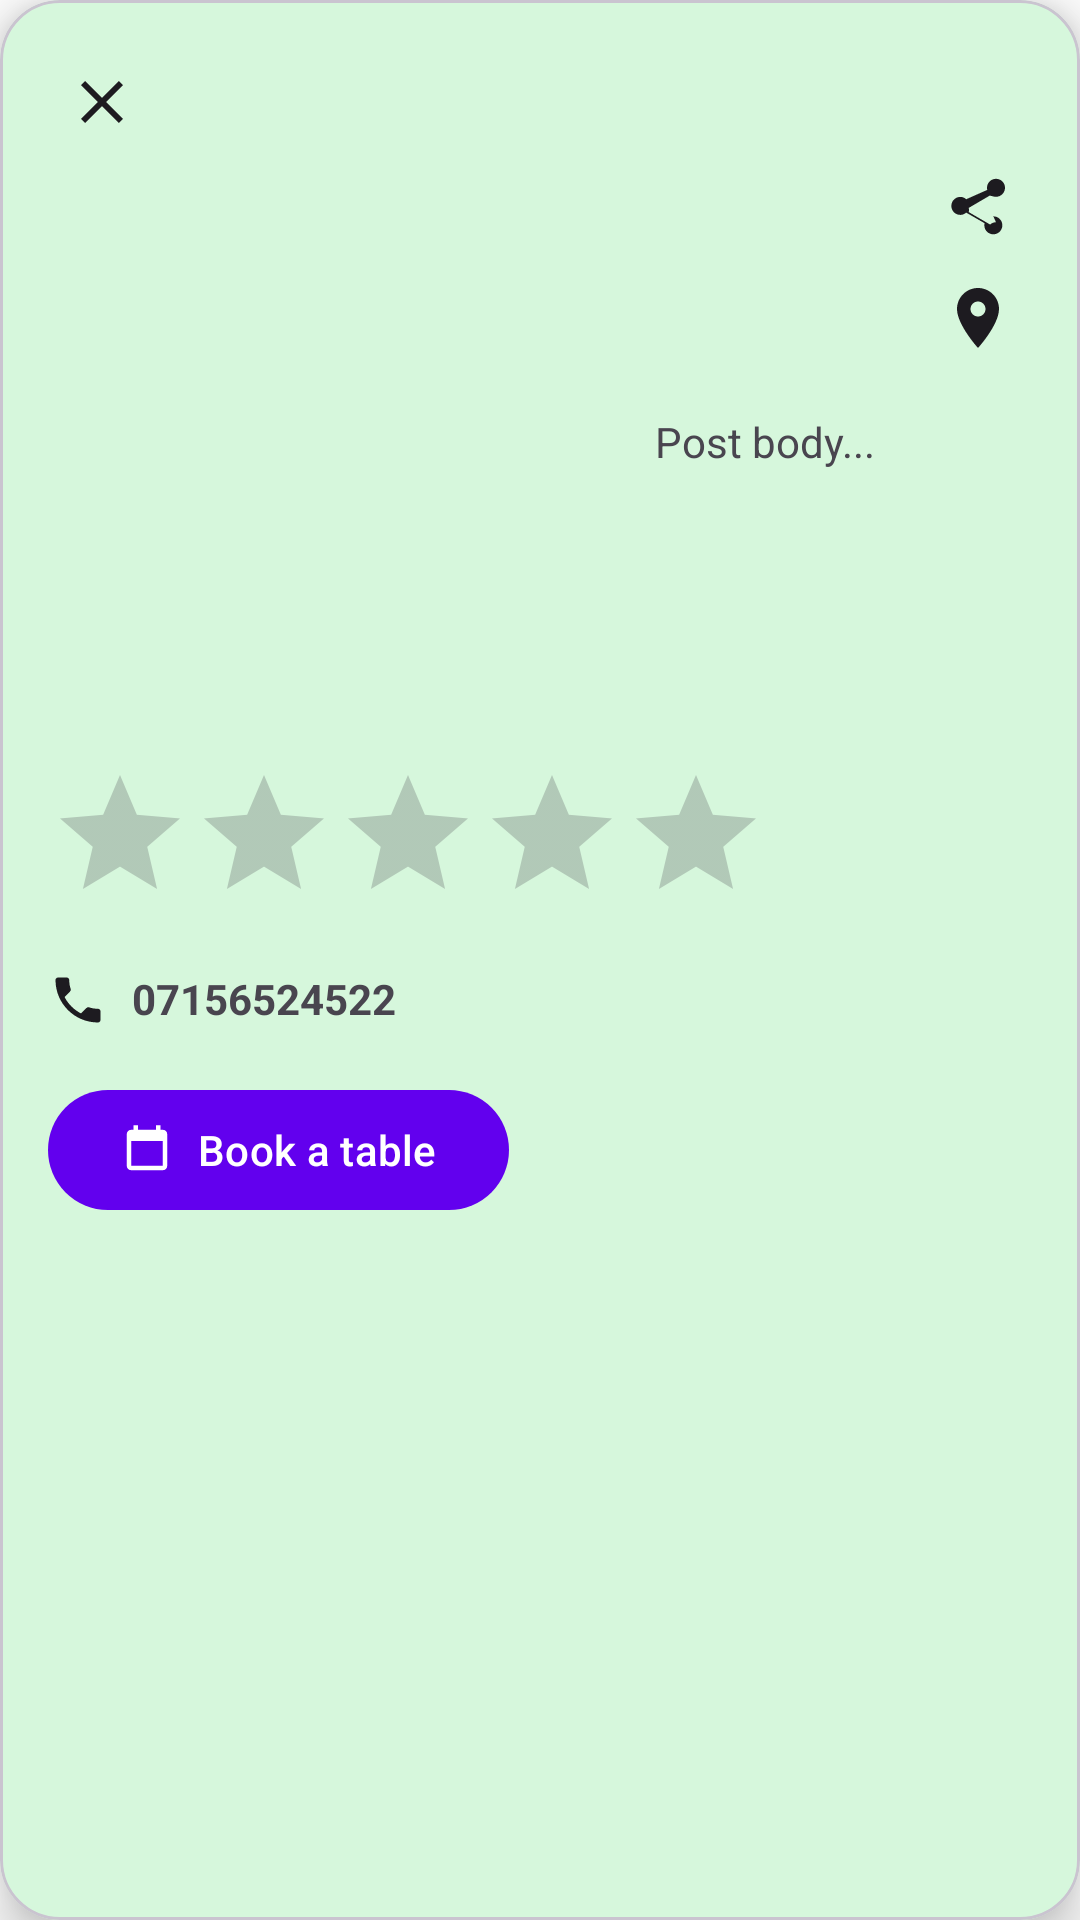

Icons on this 1080w x 1920h Android screen, each with its box as (x1, y1, x2, y2):
Call: (55, 977, 101, 1023)
Close: (81, 81, 123, 123)
Location: (957, 288, 999, 348)
Share: (951, 178, 1005, 235)
